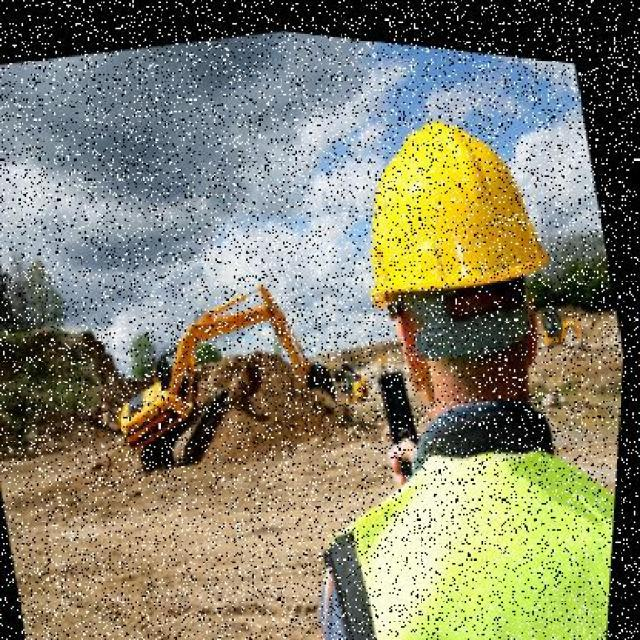helmet: (332, 82, 570, 311)
vest: (292, 377, 623, 639)
